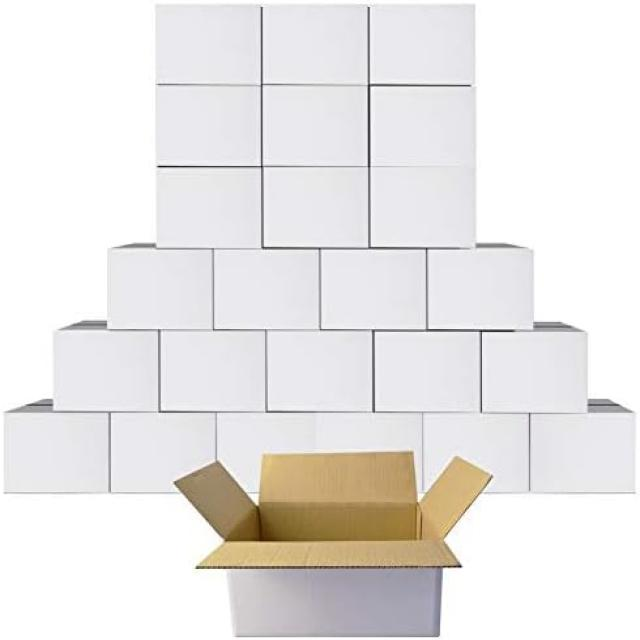Carton: (3, 3, 636, 495)
